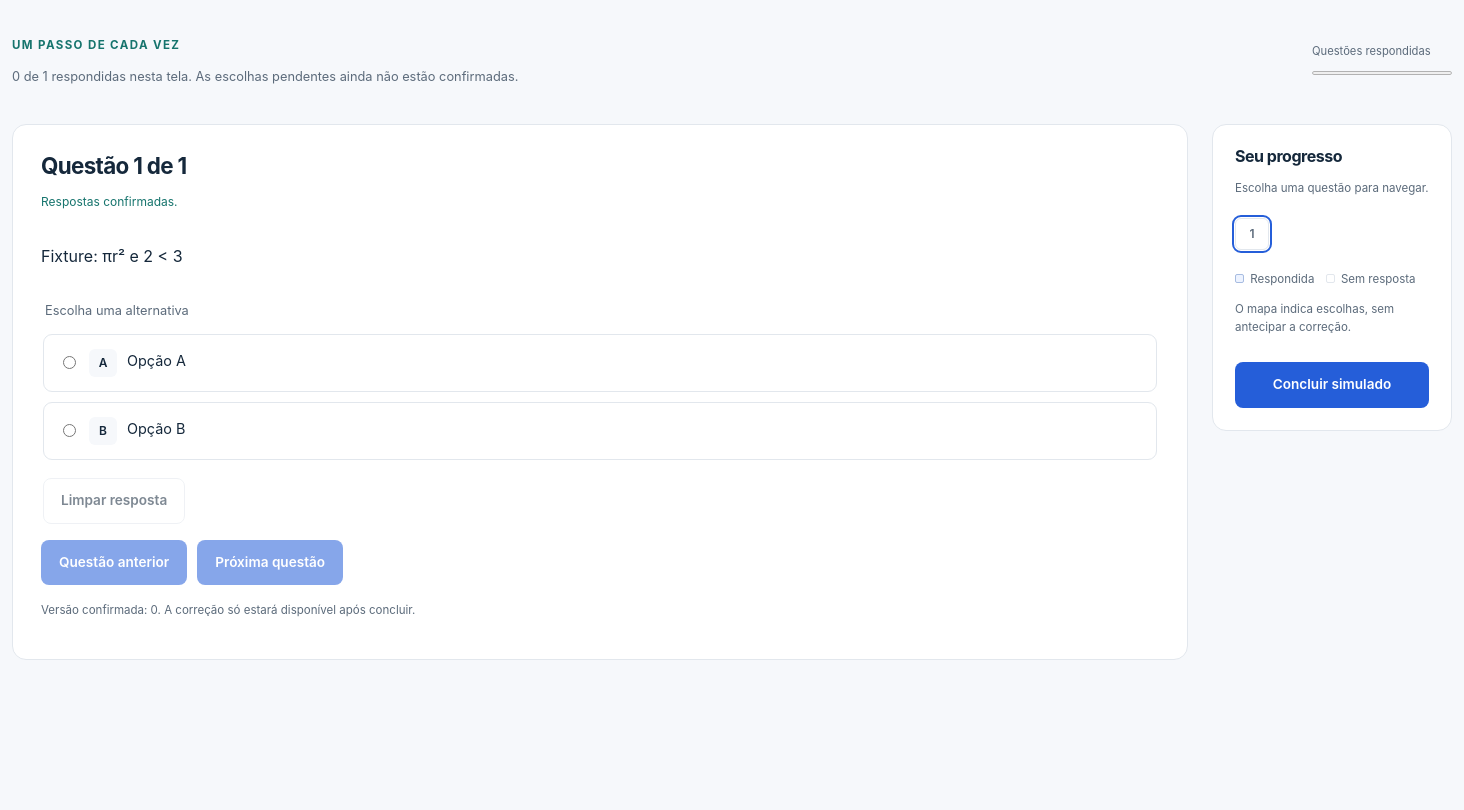
StrictMode retoma o mesmo comando na nova geração após abort sem confirmar a antiga
The image size is (1464, 810).
Click the radio button labelled "A Opção A".
click(70, 363)  # box [63,356,76,369]
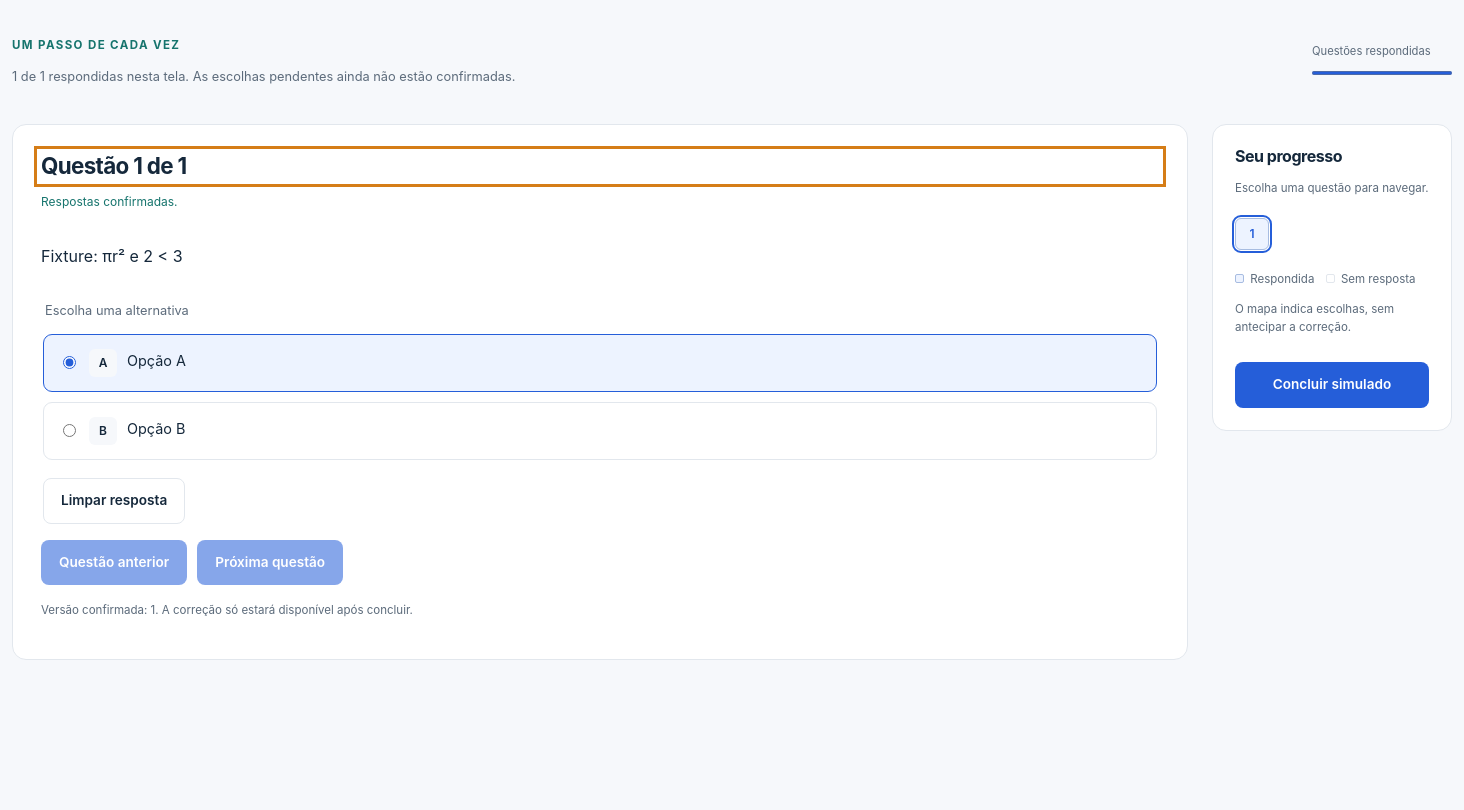
Check: the text "Respostas confirmadas." is shown, box [41,194,178,209]
Check: the radio button labelled "A Opção A" is checked, box [63,356,76,369]
Check: the text "Versão confirmada: 1. A correção só estará disponível após concluir." is shown, box [41,603,413,617]
